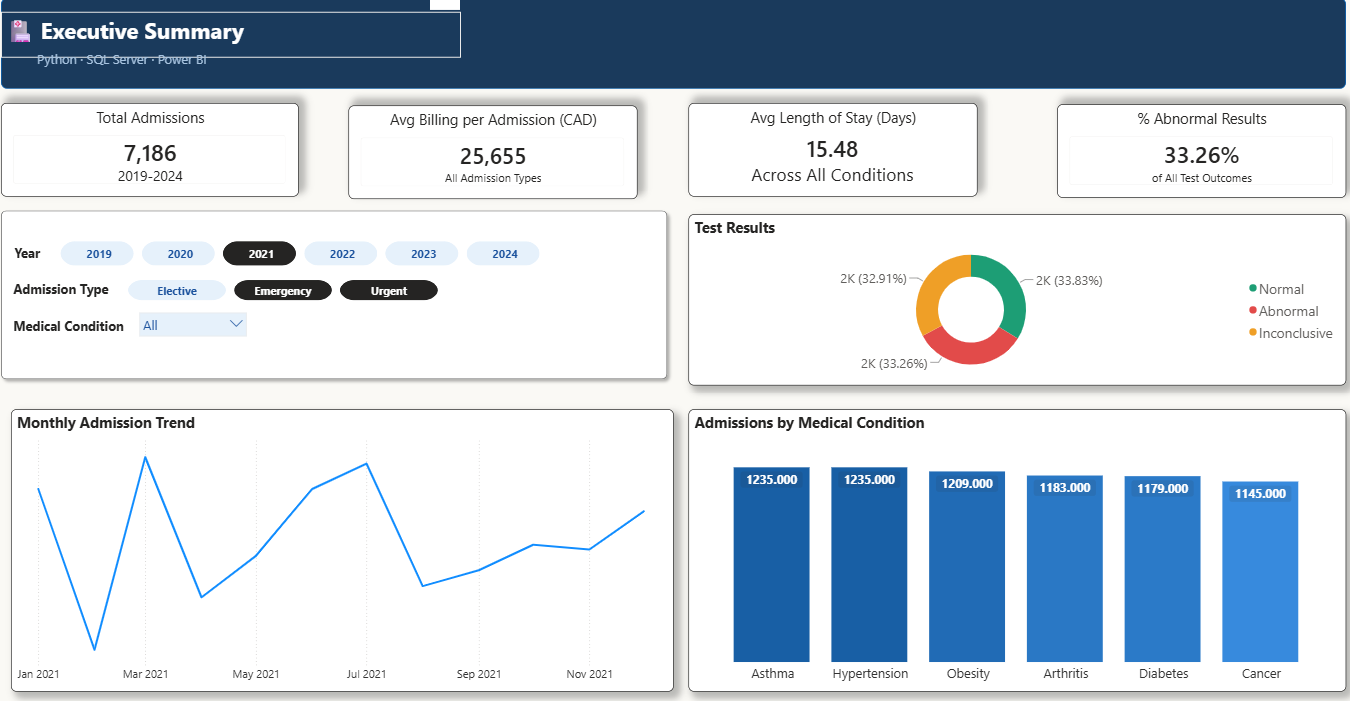

The dashboard page shown, as its layout file describes it:
{"tool":"powerbi","page":{"name":"Executive Summary","canvas":[2000,1060],"ordinal":1},"visuals":[{"type":"shape","box":[12.7,321.6,941,194.4],"z":0},{"type":"shape","box":[21.8,21.7,1954.9,132],"z":1000},{"type":"textbox","box":[21.8,41.7,668.6,67.2],"z":2000},{"type":"slicer","fields":{"Values":["dim_condition.condition_name"]},"box":[213.3,437.9,176.2,47.2],"z":3000},{"type":"textbox","box":[69,92.5,668.6,34.5],"z":4000},{"type":"textbox","box":[35.2,450.6,185.3,45.4],"z":5000},{"type":"cardVisual","title":"Total Patient","fields":{"Data":["_Measures.Total Patients"]},"box":[21.8,174.4,432.4,136.3],"z":6000},{"type":"cardVisual","title":"% Abnormal Results","fields":{"Data":["_Measures.Pct Abnormal"]},"box":[1557.1,176.2,419.7,136.3],"z":7000},{"type":"cardVisual","title":"Avg Length of Stay","fields":{"Data":["_Measures.Avg LOS"]},"box":[1021.1,174.4,419.7,136.3],"z":8000},{"type":"cardVisual","title":"Avg Billing(CAD)","fields":{"Data":["_Measures.Avg Billing"]},"box":[526.9,178.1,419.7,136.3],"z":9000},{"type":"lineChart","title":"Monthly Admission Trend","fields":{"Y":["_Measures.Total Patients"],"Category":["dim_date.full_date.Variation.Date Hierarchy.Year","dim_date.full_date.Variation.Date Hierarchy.Month"]},"box":[21.8,724.9,924.8,305.2],"z":10000},{"type":"textbox","box":[37.1,343.4,96.3,37],"z":11000},{"type":"advancedSlicerVisual","fields":{"Values":["dim_date.year"]},"box":[104.3,339.8,708.6,45.4],"z":12000},{"type":"advancedSlicerVisual","fields":{"Values":["fact_admissions.admission_type"]},"box":[202.4,396.1,461.5,40],"z":13000},{"type":"columnChart","title":"Admissions by Medical Condition","fields":{"Category":["dim_condition.condition_name"],"Y":["_Measures.Total Patients"]},"box":[1021.1,724.9,955.7,305.2],"z":14000},{"type":"textbox","box":[35.2,396.1,163.5,40],"z":15000},{"type":"donutChart","title":"Test Results","fields":{"Category":["fact_admissions.test_results"],"Y":["_Measures.Total Patients"]},"box":[21.8,516,924.8,194.4],"z":16000},{"type":"textbox","box":[1021.1,328.9,955.7,374.3],"z":17000}]}

Visuals, with their boxes in screenshot pixels (x1, y1, x2, y2), scaled from the page's 2000x1060 canvas onto the 1350x701 screenshot:
shape: [left=9, top=213, right=644, bottom=341]
shape: [left=15, top=14, right=1334, bottom=102]
textbox: [left=15, top=28, right=466, bottom=72]
slicer - dim_condition.condition_name: [left=144, top=290, right=263, bottom=321]
textbox: [left=47, top=61, right=498, bottom=84]
textbox: [left=24, top=298, right=149, bottom=328]
"Total Patient" cardVisual: [left=15, top=115, right=307, bottom=205]
"% Abnormal Results" cardVisual: [left=1051, top=117, right=1334, bottom=207]
"Avg Length of Stay" cardVisual: [left=689, top=115, right=973, bottom=205]
"Avg Billing(CAD)" cardVisual: [left=356, top=118, right=639, bottom=208]
"Monthly Admission Trend" lineChart: [left=15, top=479, right=639, bottom=681]
textbox: [left=25, top=227, right=90, bottom=252]
advancedSlicerVisual - dim_date.year: [left=70, top=225, right=549, bottom=255]
advancedSlicerVisual - fact_admissions.admission_type: [left=137, top=262, right=448, bottom=288]
"Admissions by Medical Condition" columnChart: [left=689, top=479, right=1334, bottom=681]
textbox: [left=24, top=262, right=134, bottom=288]
"Test Results" donutChart: [left=15, top=341, right=639, bottom=470]
textbox: [left=689, top=218, right=1334, bottom=465]
